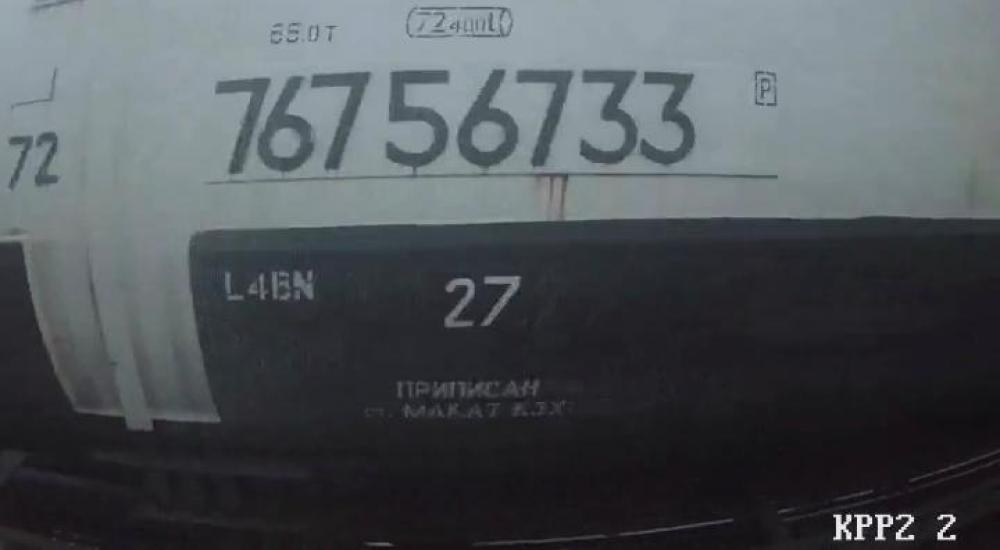Wagon-number: (207, 63, 709, 174)
